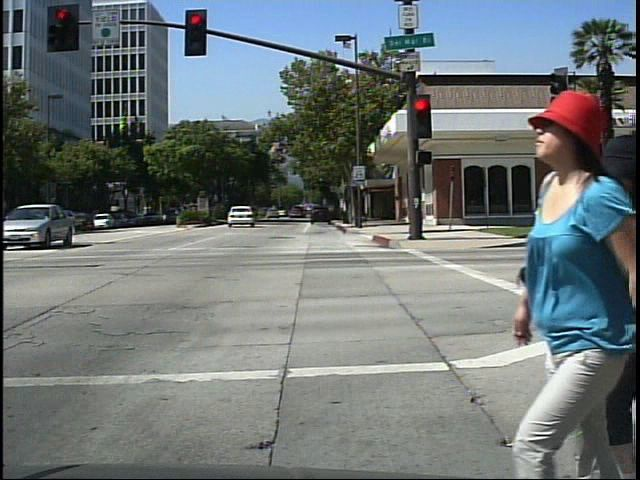person: (511, 85, 638, 480)
